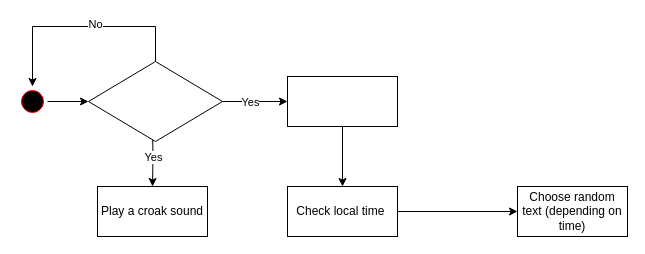
Image size: 645x254. Some labels were removed from this diagram. The shapes that lost their labels are listed below. From the top down, each one's box as (x1, y1, x2, y2) in pixels, then its label:
(88, 60, 222, 142): Clicked on a frog?
(286, 76, 398, 126): Create speechbubble above its head
